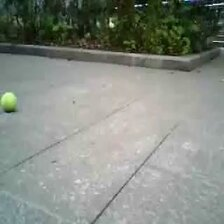tennis: (1, 92, 17, 112)
